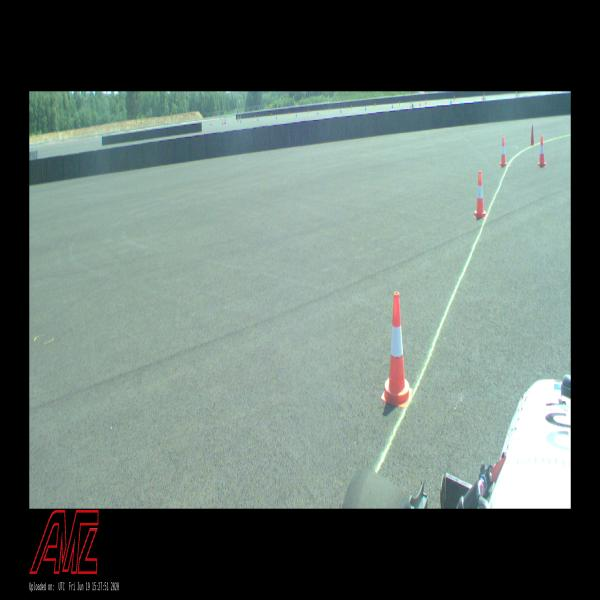orange_cone: (381, 291, 412, 409), (474, 173, 486, 217), (538, 136, 546, 168), (500, 137, 507, 166)
unknown_cone: (530, 125, 534, 146)
